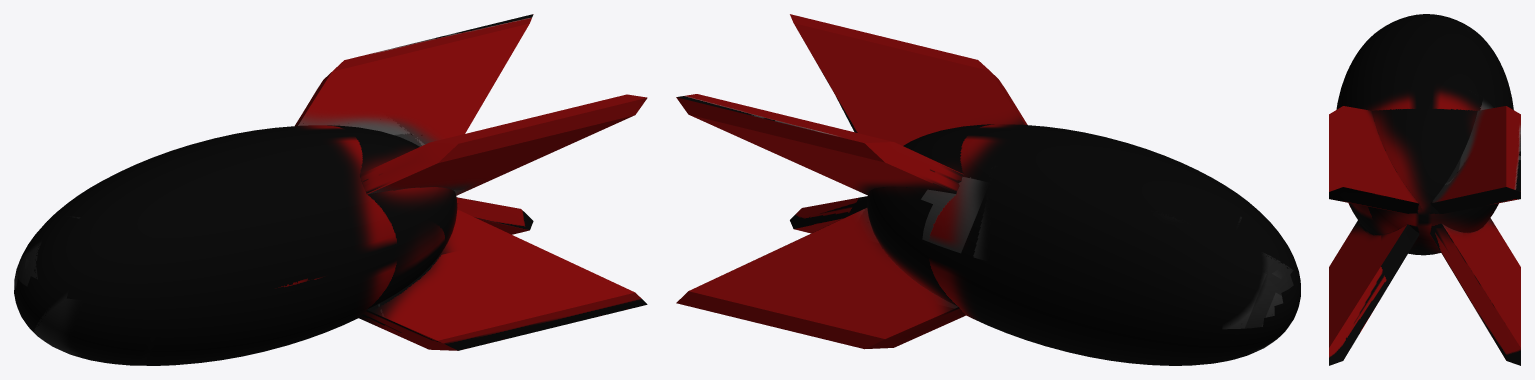
Rendered from bomb.fbx.
3 renders of one model, left to right at view 1: azimuth 30°, elevation 25°; view 2: azimuth 150°, elevation 25°; view 3: azimuth 270°, elevation 25°, orthographic. The views are drawn at different scales.
Parts seen in each view (by area): view 1: Cube.001; view 2: Cube.001; view 3: Cube.001.
Boxes of the visible parts, left/top/right/bottom form: Cube.001: left=14, top=14, right=647, bottom=365; Cube.001: left=676, top=14, right=1300, bottom=365; Cube.001: left=1329, top=14, right=1520, bottom=365.
Bounding box in the file's own units: 30.38 × 10.62 × 10.62.
